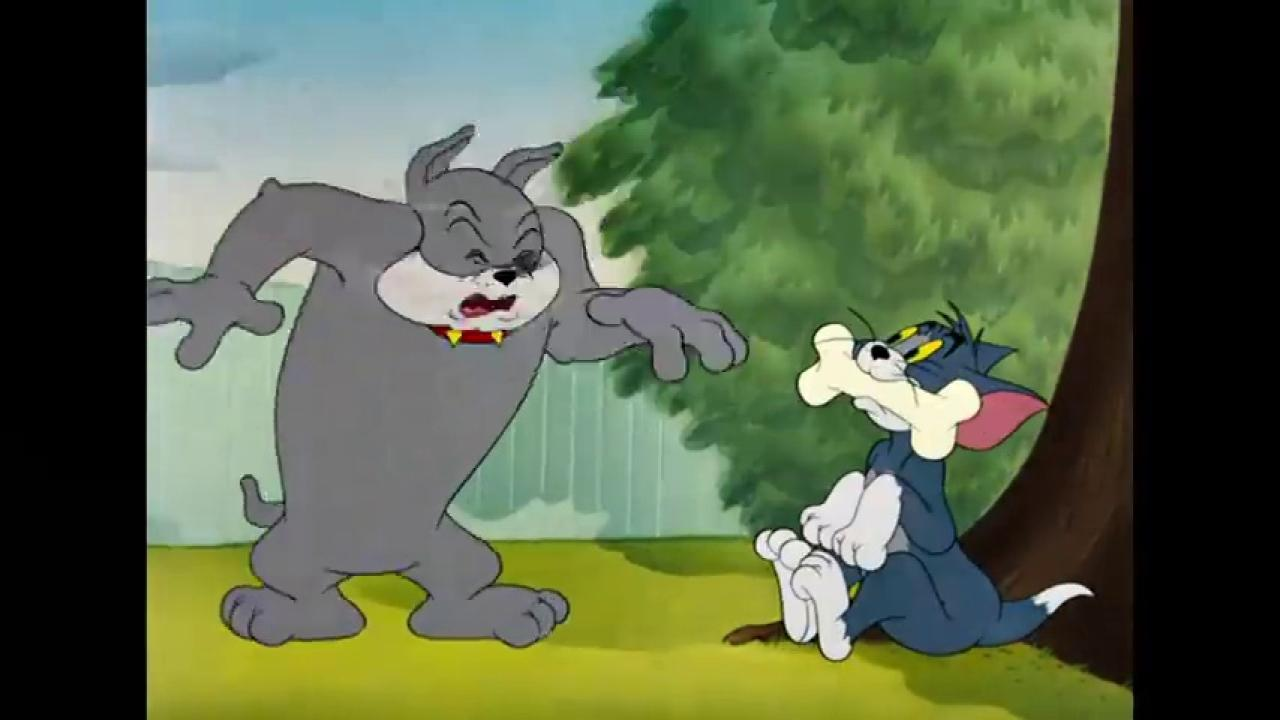Tom: (752, 296, 1100, 663)
